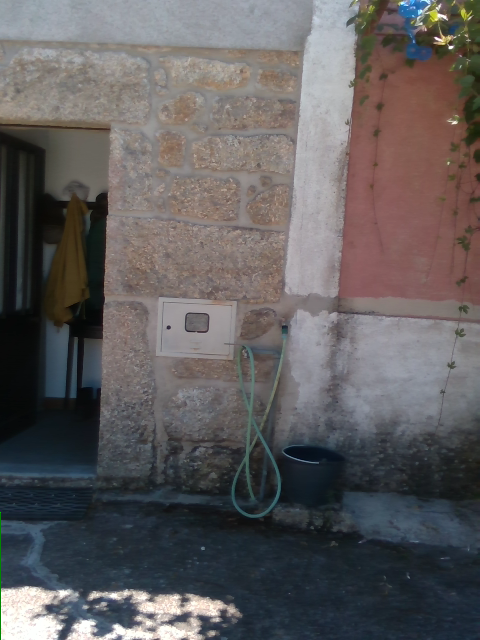open: (1, 119, 115, 476)
